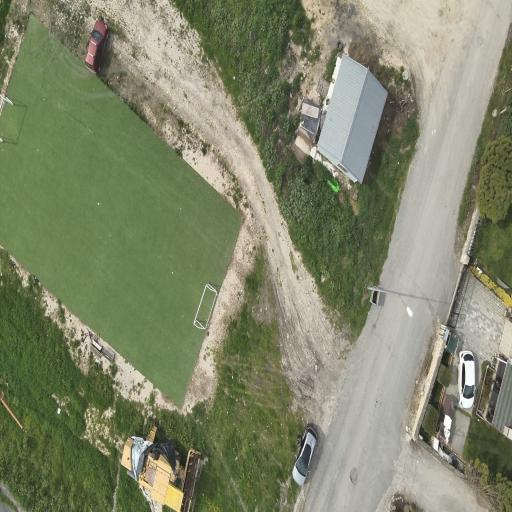car: (292, 425, 318, 484), (86, 19, 107, 72), (458, 350, 475, 408)
harvester: (122, 426, 203, 511)
